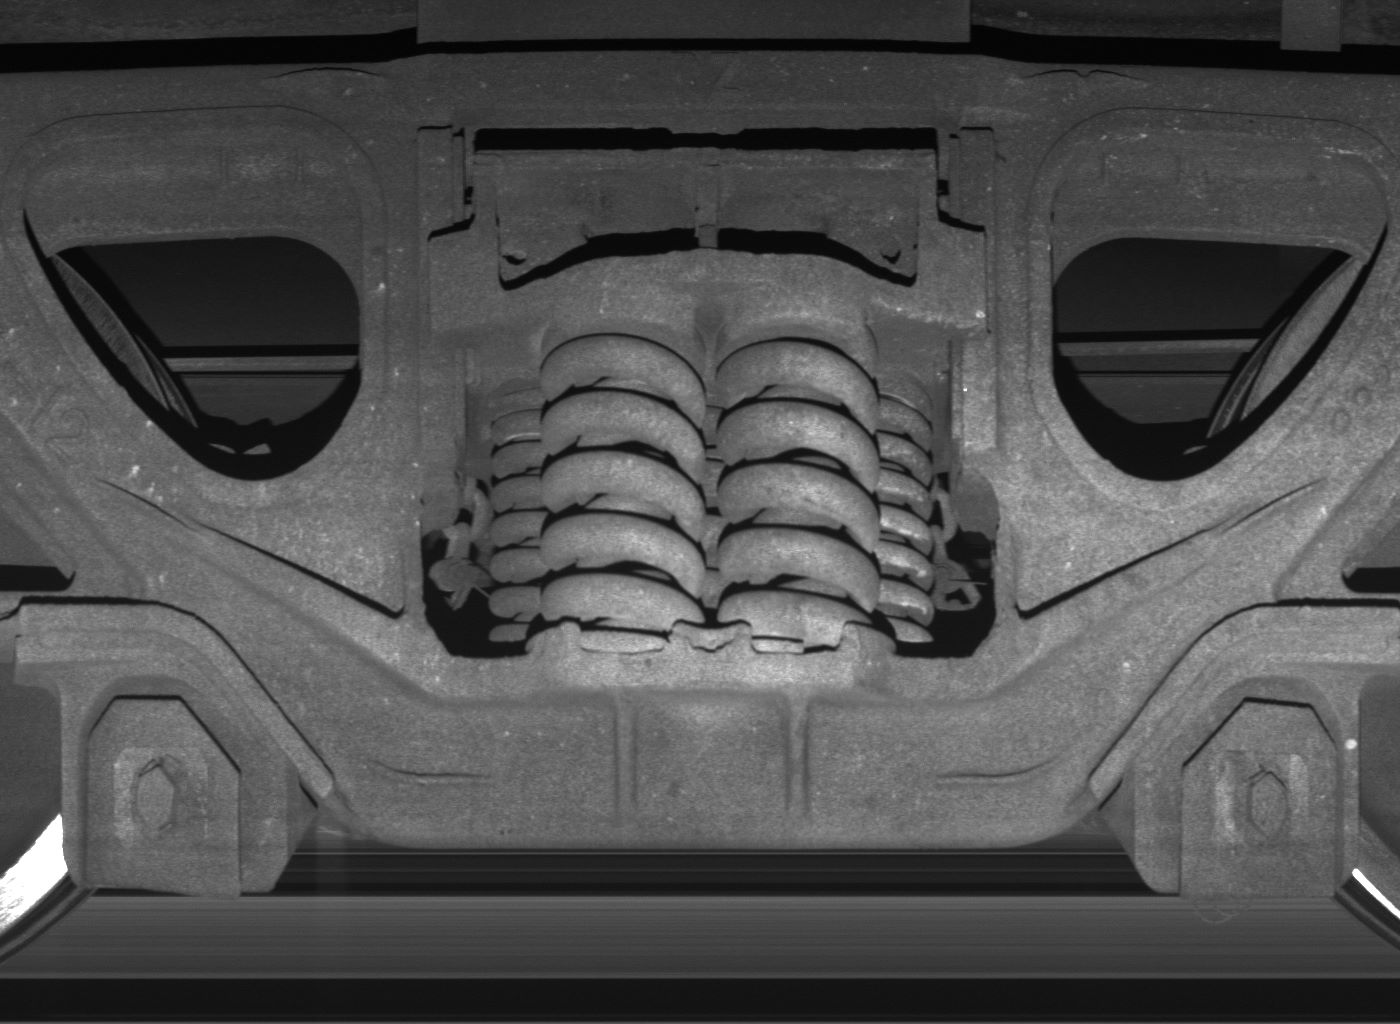normal: (1137, 673, 1359, 900), (61, 675, 289, 896)
